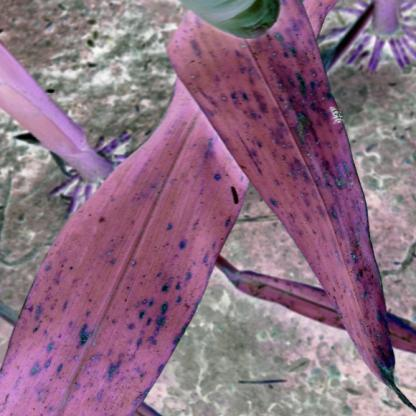corn rust leaf: (166, 30, 404, 393), (10, 87, 250, 415)
